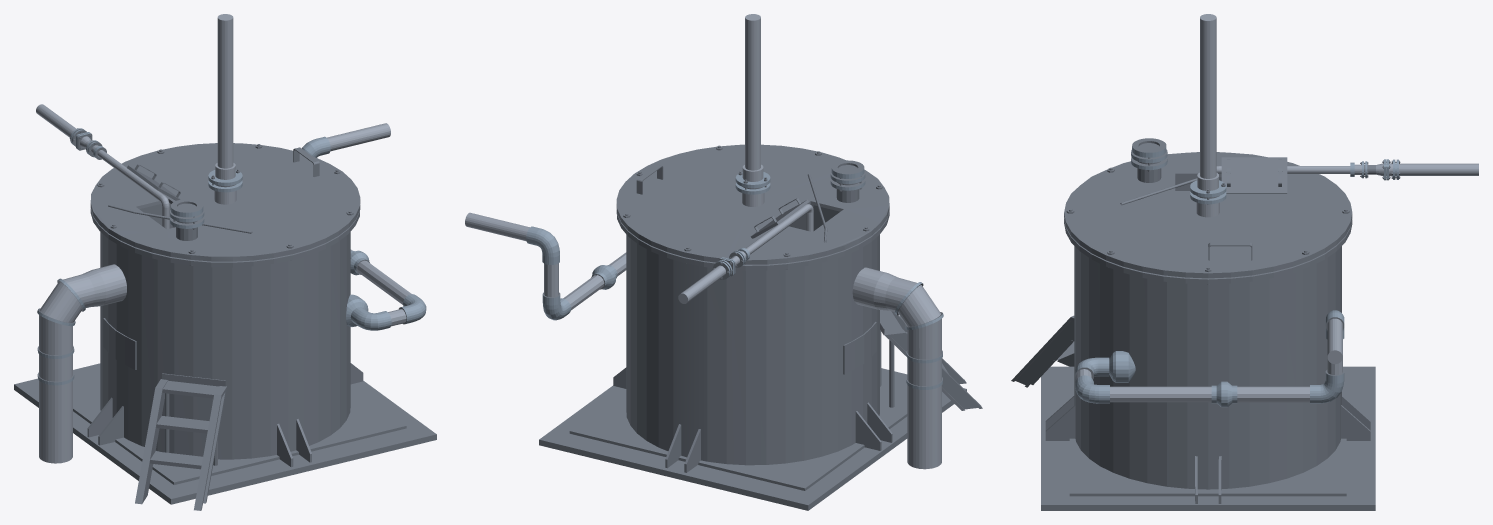
Rendered from Tank.fbx.
3 views of the same model, side by side, from view 1: azimuth 30°, elevation 25°; view 2: azimuth 150°, elevation 25°; view 3: azimuth 270°, elevation 25° (orthographic). The views are drawn at different scales.
Parts seen in each view (by area): view 1: Tank; view 2: Tank; view 3: Tank.
Boxes of the visible parts, x1,y1,x2,y2 form: Tank: (14, 14, 436, 510); Tank: (465, 14, 982, 510); Tank: (1011, 14, 1478, 510).
Bounding box in the file's own units: 3.25 × 3.04 × 3.03.
